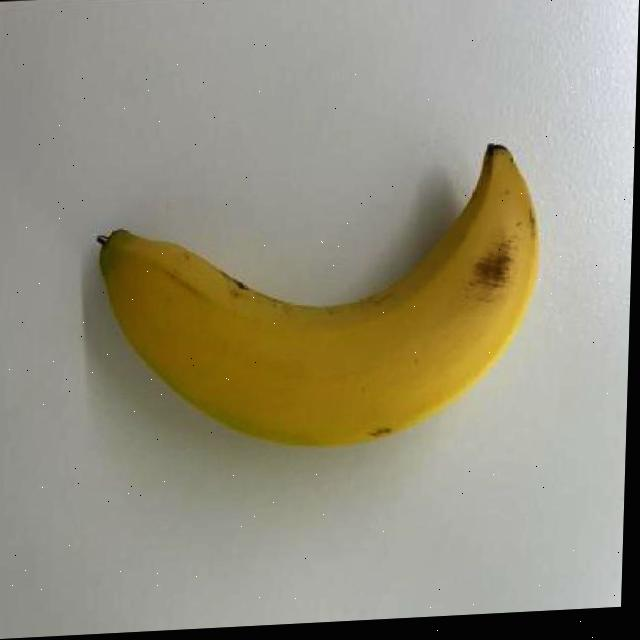banana: (81, 127, 551, 474)
